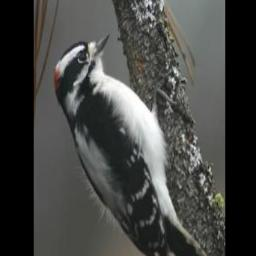Woodpecker: (53, 33, 215, 256)
